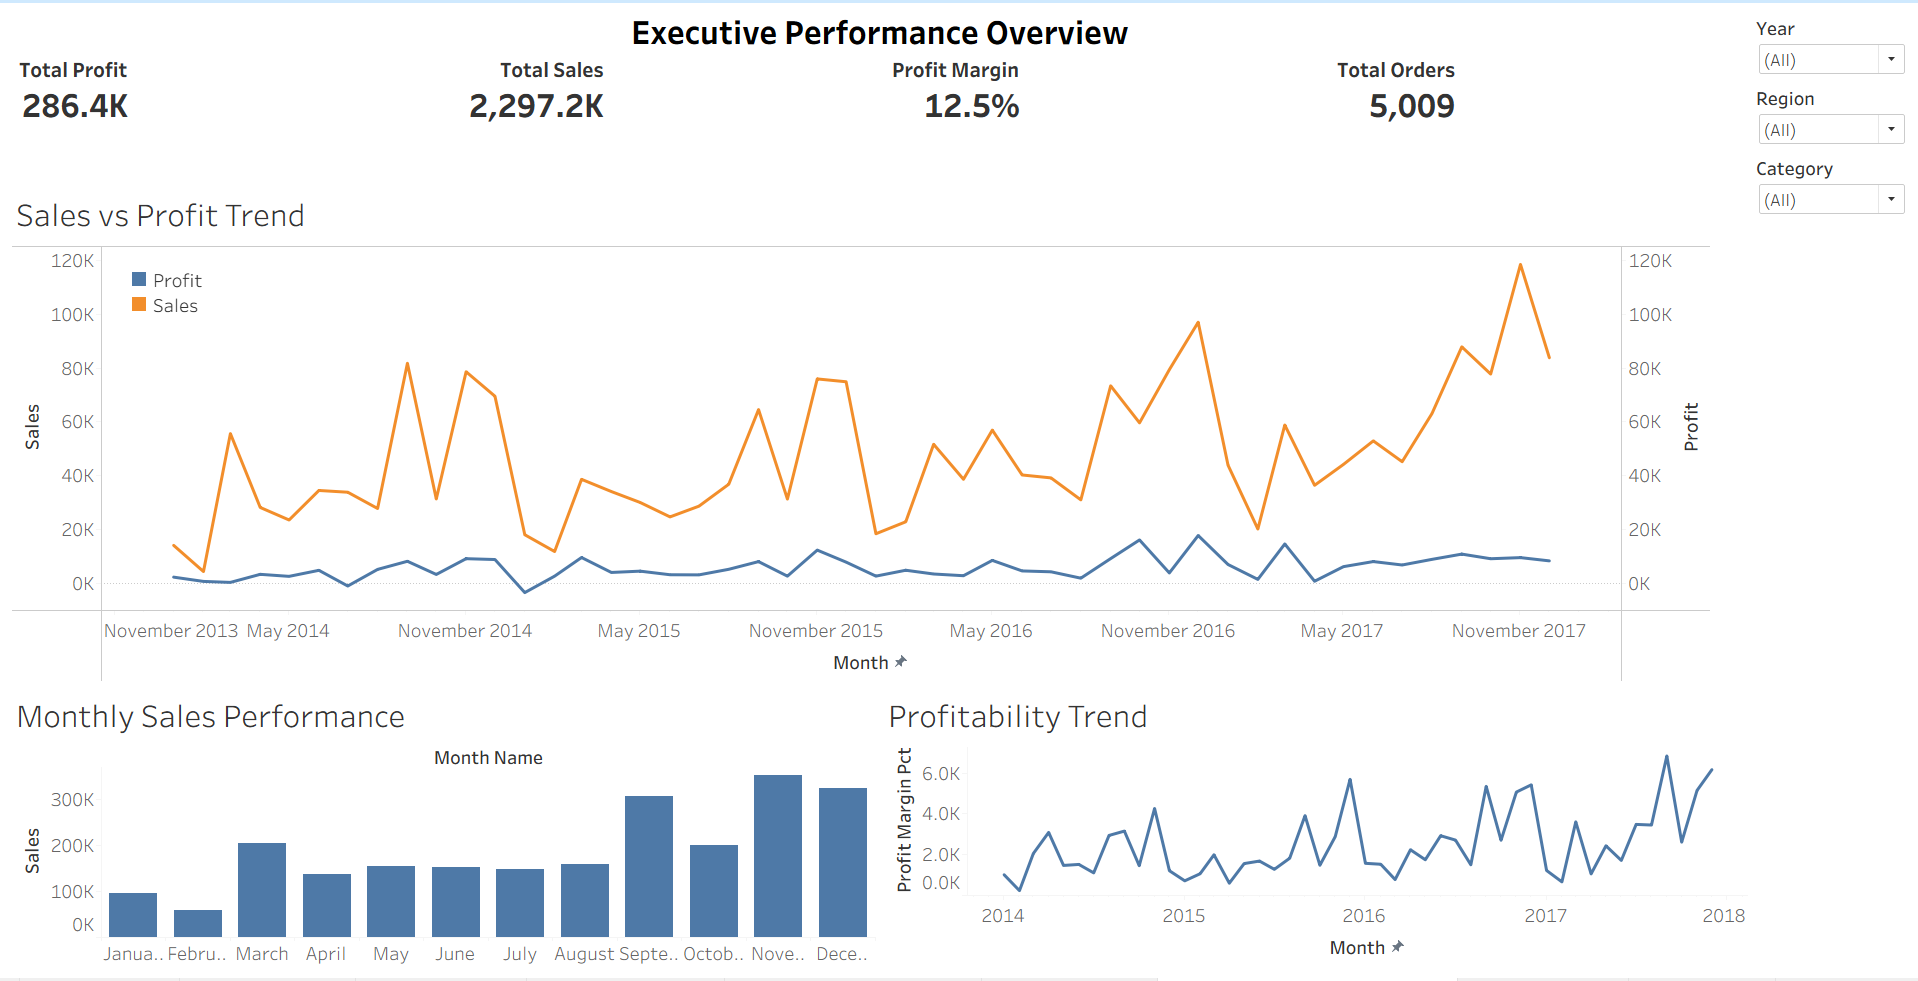

The dashboard page shown, as its layout file describes it:
{"tool":"tableau","page":{"name":"Executive Performance Overview","canvas":[1000,1000],"units":"permille","ordinal":2},"visuals":[{"type":"text","box":[4.2,8.2,908.3,42]},{"type":"filter","title":"Sales vs Profit Trend","param":"[federated.1k9e1lu12u8j3r19thx170q1152m].[yr:full_date:ok]","box":[912.5,8.2,83.3,71.8]},{"type":"worksheet","title":"KPI_Total_Profit","mark":"Automatic","box":[4.2,50.3,227.1,136.4]},{"type":"worksheet","title":"KPI_Total_Sales","mark":"Automatic","box":[231.2,50.3,227.1,136.4]},{"type":"worksheet","title":"KPI_Profit_Margin","mark":"Automatic","box":[458.3,50.3,227.1,136.4]},{"type":"worksheet","title":"KPI_Total_Orders","mark":"Automatic","box":[685.4,50.3,227.1,136.4]},{"type":"filter","title":"Sales vs Profit Trend","param":"[federated.1k9e1lu12u8j3r19thx170q1152m].[none:region:nk]","box":[912.5,80,83.3,71.8]},{"type":"filter","title":"Sales vs Profit Trend","param":"[federated.1k9e1lu12u8j3r19thx170q1152m].[none:category:nk]","box":[912.5,151.8,83.3,71.8]},{"type":"worksheet","title":"Sales vs Profit Trend","mark":"Automatic","rows":["sales","profit"],"cols":["full_date"],"box":[4.2,186.6,889,513.5]},{"type":"legend","title":"Sales vs Profit Trend","param":"[federated.1k9e1lu12u8j3r19thx170q1152m].[:Measure Names]","box":[66.1,270.3,71.1,68.2]},{"type":"worksheet","title":"Monthly Sales Performance","mark":"Automatic","rows":["sales"],"cols":["month_name"],"box":[4.2,700.5,454.2,291.3]},{"type":"worksheet","title":"Profitability Trend","mark":"Automatic","rows":["profit_margin_pct"],"cols":["full_date"],"box":[458.3,700.5,454.2,291.3]}]}

Visuals, with their boxes on the dashboard's canvas, which has no fixed pixel size, in thousandths of its width and height (x1, y1, x2, y2). These are canvas units, not pixel positions in the 1918x981 screenshot, which may show the page scaled, cropped or inside an application window:
text: (4, 8, 912, 50)
"Sales vs Profit Trend" filter: (912, 8, 996, 80)
"KPI_Total_Profit" worksheet: (4, 50, 231, 187)
"KPI_Total_Sales" worksheet: (231, 50, 458, 187)
"KPI_Profit_Margin" worksheet: (458, 50, 685, 187)
"KPI_Total_Orders" worksheet: (685, 50, 912, 187)
"Sales vs Profit Trend" filter: (912, 80, 996, 152)
"Sales vs Profit Trend" filter: (912, 152, 996, 224)
"Sales vs Profit Trend" worksheet: (4, 187, 893, 700)
"Sales vs Profit Trend" legend: (66, 270, 137, 338)
"Monthly Sales Performance" worksheet: (4, 700, 458, 992)
"Profitability Trend" worksheet: (458, 700, 912, 992)
